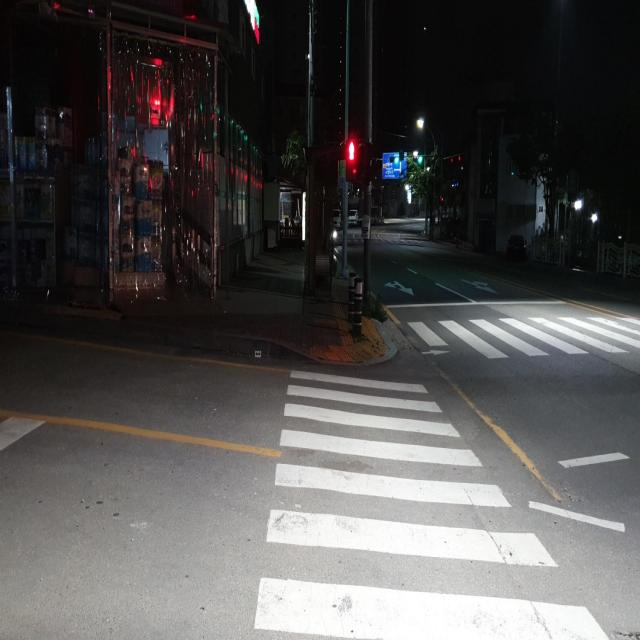빨간불: (344, 137, 358, 186)
횡단보도: (253, 369, 614, 639), (407, 312, 640, 365)
